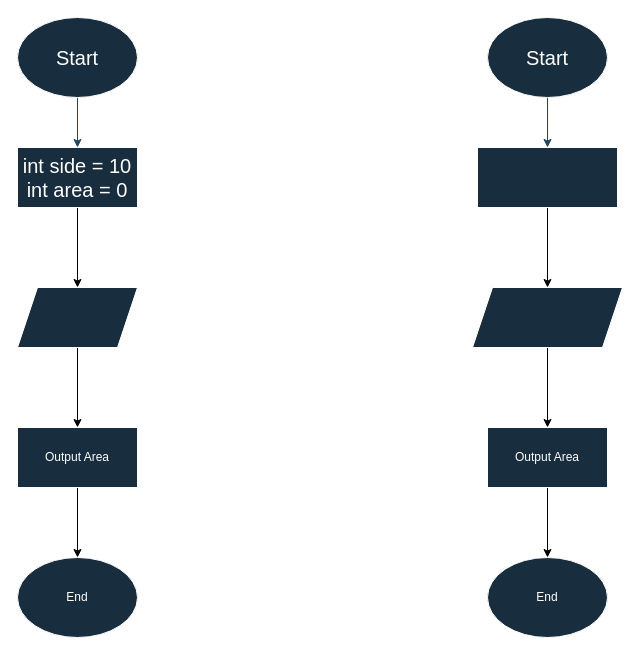
Some shapes in this 640 by 655 pixel diagram are drawn without their labels. Here are the shapes that lost their labels. From the top down, the box of each, then its label:
(476, 146, 618, 208): int length = 10 int breadth = 0
(16, 286, 138, 348): area = side*side
(472, 286, 622, 348): area = length*breadth
